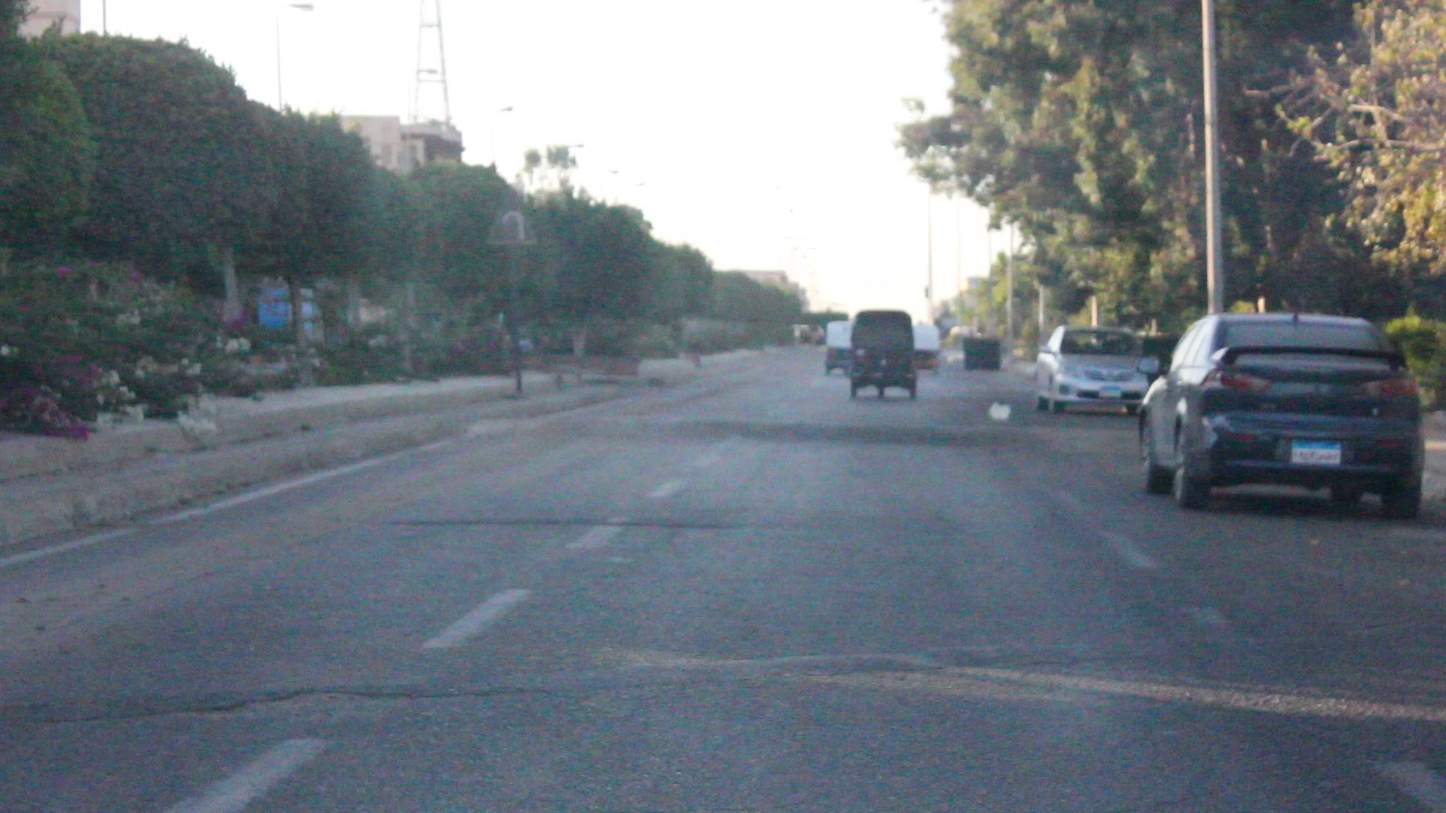Bump: (493, 422, 1118, 450)
